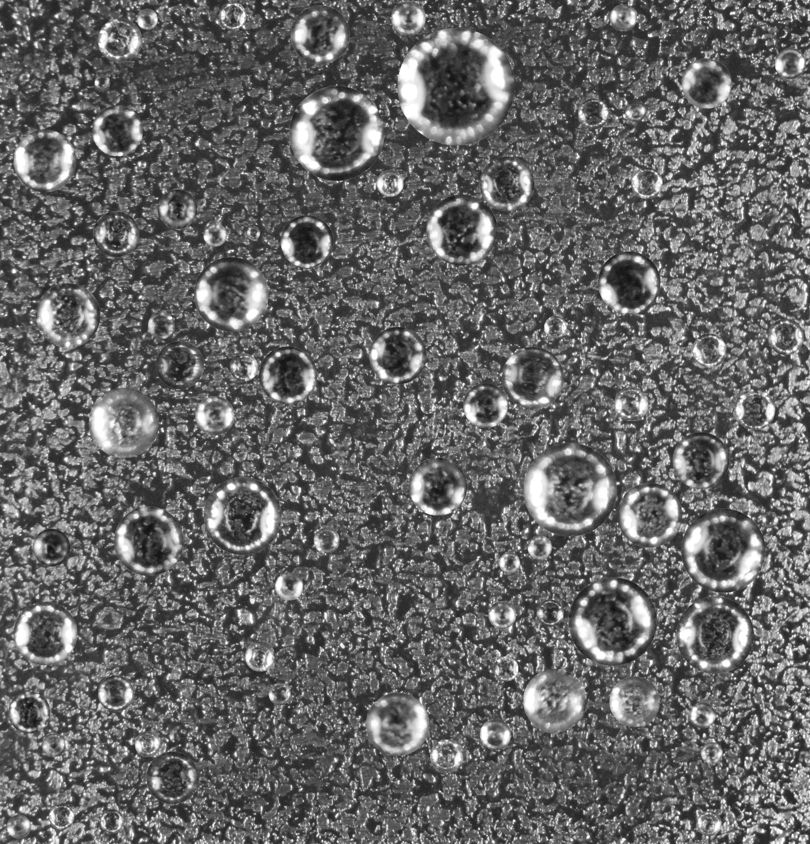Bubble: (397, 28, 514, 145), (289, 86, 384, 180), (523, 443, 616, 536), (568, 577, 656, 665), (681, 508, 765, 592), (203, 477, 281, 554), (676, 596, 753, 673), (194, 257, 268, 331), (426, 194, 497, 265), (88, 387, 158, 457), (114, 506, 183, 575), (35, 283, 100, 347), (617, 483, 682, 547), (13, 601, 77, 665), (366, 692, 429, 755), (523, 669, 586, 732), (13, 129, 76, 192), (598, 251, 660, 313), (502, 346, 563, 408), (290, 5, 349, 64), (409, 457, 467, 515), (259, 346, 316, 404), (369, 327, 426, 384), (672, 432, 729, 488), (479, 156, 534, 211), (280, 215, 333, 267), (146, 751, 198, 804), (92, 105, 142, 156), (681, 58, 731, 108), (609, 676, 659, 726), (155, 341, 203, 389), (93, 211, 139, 257), (463, 383, 507, 427), (97, 18, 141, 62), (8, 691, 50, 733), (734, 389, 775, 429), (158, 189, 197, 228), (195, 396, 234, 435), (32, 528, 70, 566), (767, 318, 803, 354), (97, 675, 133, 711), (391, 0, 425, 35), (692, 333, 726, 367), (614, 387, 648, 421), (430, 739, 463, 773), (631, 167, 662, 198), (480, 719, 511, 750), (775, 48, 806, 79), (578, 98, 608, 129), (245, 641, 275, 671), (275, 572, 303, 600), (229, 353, 257, 381), (488, 601, 516, 628), (219, 2, 246, 29), (536, 599, 563, 626), (376, 169, 403, 196), (610, 4, 636, 31), (148, 312, 174, 338), (134, 731, 160, 757), (313, 527, 339, 553), (689, 702, 715, 728), (48, 804, 74, 829), (493, 656, 518, 681), (696, 811, 721, 836), (527, 535, 551, 559), (41, 733, 65, 757), (100, 809, 123, 833), (6, 815, 30, 838), (203, 223, 226, 246), (268, 682, 290, 705), (544, 316, 566, 338), (701, 742, 722, 764), (499, 552, 520, 573), (625, 100, 646, 121), (136, 8, 157, 29), (762, 511, 778, 528), (94, 74, 110, 90), (420, 399, 434, 413), (246, 226, 260, 239), (648, 447, 659, 457)
